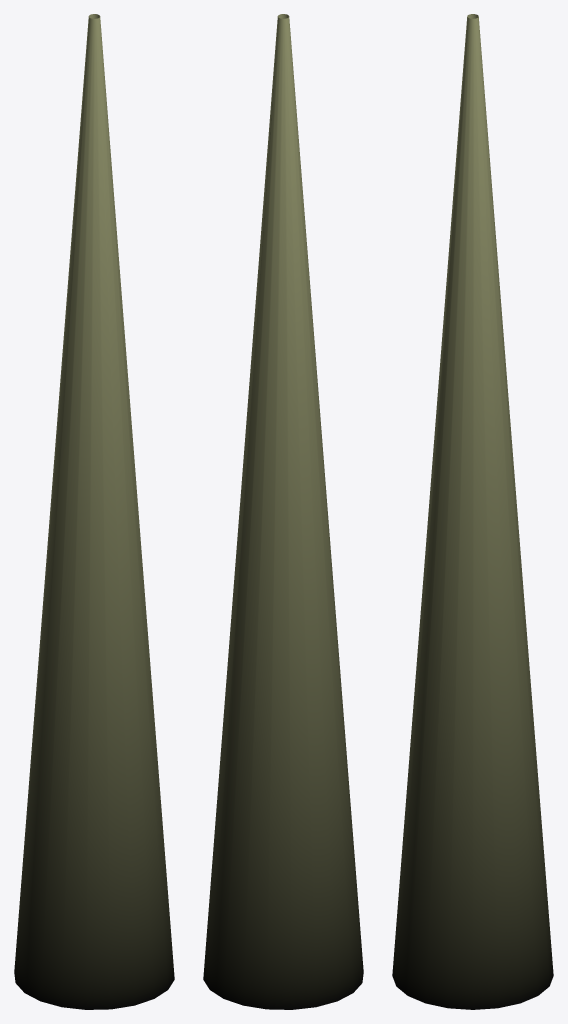
File: light_cone.fbx
3 views of the same model, side by side, from view 1: azimuth 30°, elevation 25°; view 2: azimuth 150°, elevation 25°; view 3: azimuth 270°, elevation 25° (orthographic).
Parts seen in each view (by area): view 1: light_cone; view 2: light_cone; view 3: light_cone.
Part boxes in pixels (bbox=[...]): light_cone: bbox=[14, 14, 174, 1009]; light_cone: bbox=[203, 14, 363, 1009]; light_cone: bbox=[392, 14, 553, 1009].
Size of the model in its own units: 2 by 13.12 by 2.
